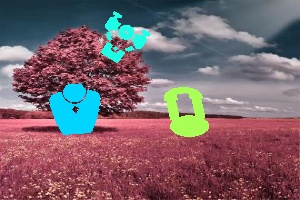上衣: (49, 84, 102, 135)
弹弓: (102, 10, 151, 62)
手电筒: (163, 86, 212, 138)
